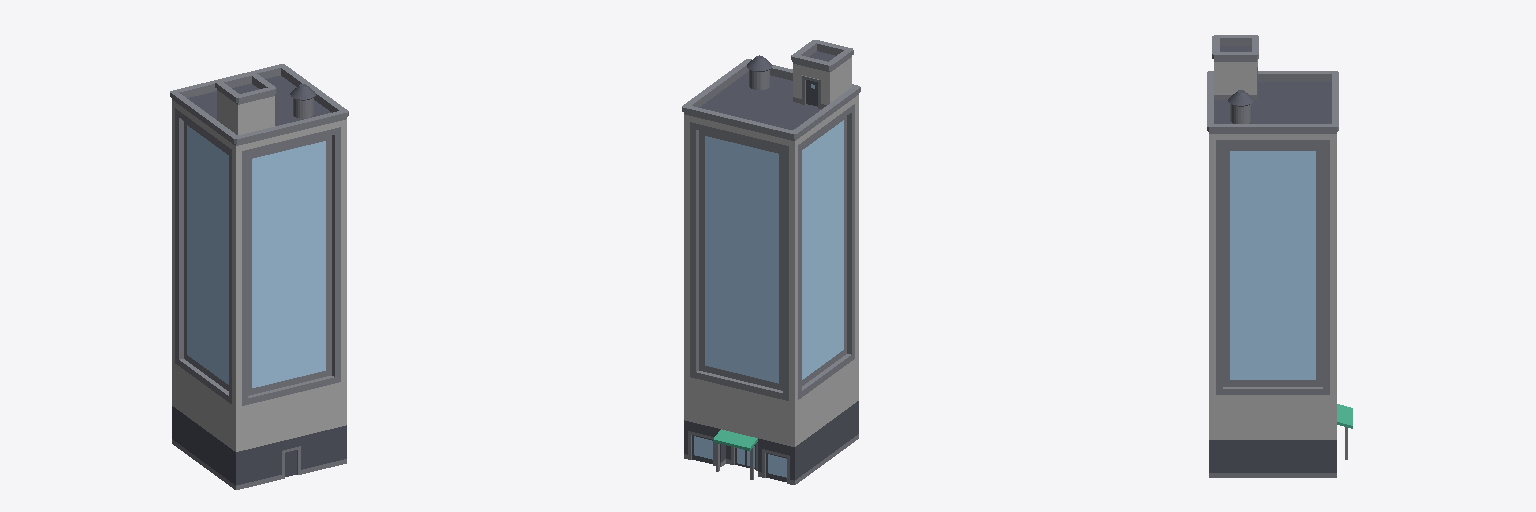
Rendered from city_skyscraper_c.obj.
3 renders of one model, left to right at view 1: azimuth 30°, elevation 25°; view 2: azimuth 150°, elevation 25°; view 3: azimuth 270°, elevation 25°, orthographic.
Visible parts, largest first — view 1: mergedBlocks; view 2: mergedBlocks; view 3: mergedBlocks.
Boxes of the visible parts, x1=… form: mergedBlocks: x1=170, y1=64, x2=348, y2=489; mergedBlocks: x1=682, y1=40, x2=860, y2=484; mergedBlocks: x1=1207, y1=35, x2=1352, y2=477.
Bounding box in the file's own units: 1 × 3.26 × 1.11.